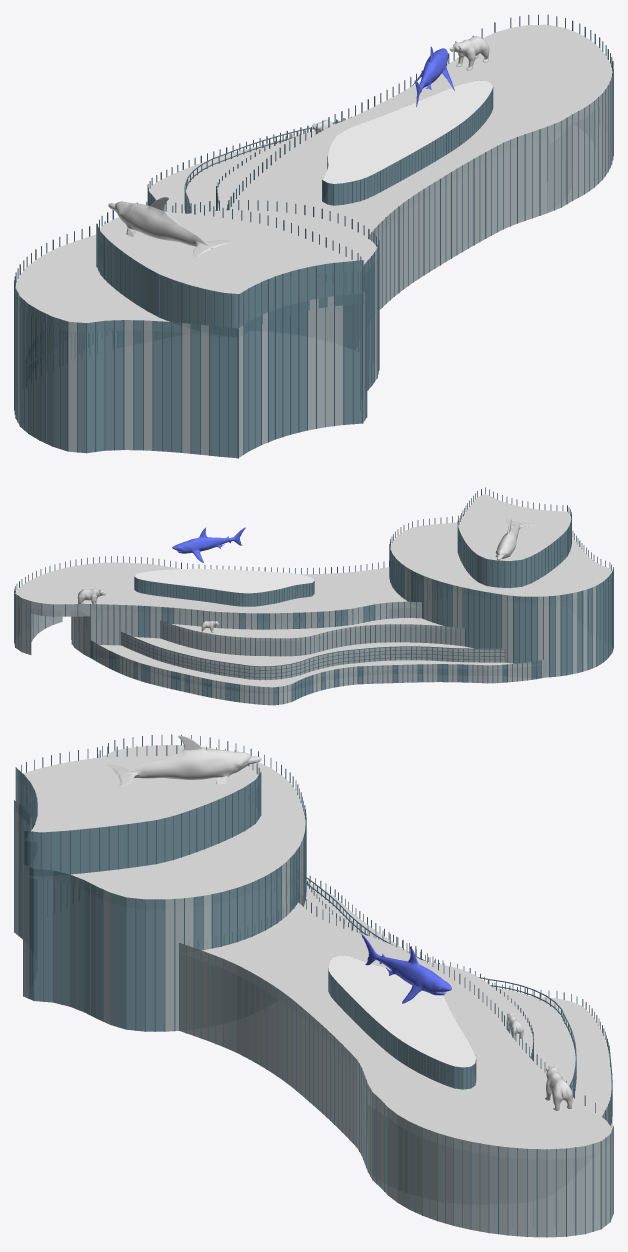
File: 海洋馆.gltf
3 renders of one model, top to bottom at view 1: azimuth 30°, elevation 25°; view 2: azimuth 150°, elevation 25°; view 3: azimuth 270°, elevation 25°, orthographic. The views are drawn at different scales.
Parts seen in each view (by area): view 1: node_Shape002_-74002, node_Object001_-73968, node_Shape001_-74000, node_Shape012_-74016, node_Object008_-73984, node_Shape003_-74004, node_Object004_-73976, node_Object013_-73994, node_Shape010_-74012, node_Object007_-73982, node_Object005_-73978, node_Shape018_-74028 (+9 smaller); view 2: node_Shape002_-74002, node_Object001_-73968, node_Shape001_-74000, node_Object004_-73976, node_Shape009_-74010, node_Shape006_-74006, node_Shape007_-74008, node_Object008_-73984, node_Shape012_-74016, node_Shape003_-74004, node_Object013_-73994, node_Object011_-73990 (+18 smaller); view 3: node_Shape001_-74000, node_Object001_-73968, node_Shape002_-74002, node_Object004_-73976, node_Shape003_-74004, node_Object008_-73984, node_Shape010_-74012, node_Object013_-73994, node_Shape012_-74016, node_Object010_-73988, node_Object006_-73980, node_Object012_-73992 (+11 smaller).
Boxes of the visible parts, x1=… form: node_Shape002_-74002: x1=14, y1=242, x2=378, y2=458; node_Object001_-73968: x1=229, y1=24, x2=612, y2=237; node_Shape001_-74000: x1=368, y1=71, x2=613, y2=309; node_Shape012_-74016: x1=14, y1=200, x2=379, y2=458; node_Object008_-73984: x1=100, y1=212, x2=353, y2=293; node_Shape003_-74004: x1=97, y1=224, x2=362, y2=332; node_Object004_-73976: x1=15, y1=210, x2=376, y2=323; node_Object013_-73994: x1=322, y1=80, x2=492, y2=183; node_Shape010_-74012: x1=226, y1=14, x2=613, y2=307; node_Object007_-73982: x1=18, y1=293, x2=343, y2=457; node_Object005_-73978: x1=15, y1=286, x2=333, y2=453; node_Shape018_-74028: x1=322, y1=88, x2=492, y2=205; node_Shape002_-74002: x1=389, y1=545, x2=613, y2=677; node_Object001_-73968: x1=15, y1=562, x2=407, y2=613; node_Shape001_-74000: x1=14, y1=589, x2=421, y2=657; node_Object004_-73976: x1=390, y1=521, x2=612, y2=596; node_Shape009_-74010: x1=94, y1=642, x2=544, y2=705; node_Shape006_-74006: x1=160, y1=620, x2=464, y2=656; node_Shape007_-74008: x1=121, y1=633, x2=504, y2=680; node_Object008_-73984: x1=458, y1=494, x2=571, y2=560; node_Shape012_-74016: x1=389, y1=489, x2=613, y2=677; node_Shape003_-74004: x1=458, y1=521, x2=571, y2=587; node_Object013_-73994: x1=134, y1=568, x2=314, y2=593; node_Object011_-73990: x1=90, y1=640, x2=540, y2=705; node_Shape001_-74000: x1=180, y1=943, x2=613, y2=1237; node_Object001_-73968: x1=201, y1=902, x2=612, y2=1149; node_Shape002_-74002: x1=19, y1=804, x2=306, y2=1031; node_Object004_-73976: x1=71, y1=744, x2=305, y2=899; node_Shape003_-74004: x1=16, y1=768, x2=260, y2=874; node_Object008_-73984: x1=24, y1=755, x2=257, y2=832; node_Shape010_-74012: x1=179, y1=892, x2=613, y2=1237; node_Object013_-73994: x1=328, y1=955, x2=475, y2=1067; node_Shape012_-74016: x1=14, y1=734, x2=306, y2=1031; node_Object010_-73988: x1=306, y1=882, x2=611, y2=1116; node_Object006_-73980: x1=24, y1=862, x2=285, y2=1031; node_Object012_-73992: x1=308, y1=886, x2=575, y2=1085.
Bounding box in the file's own units: 54.14 × 13.8 × 37.
